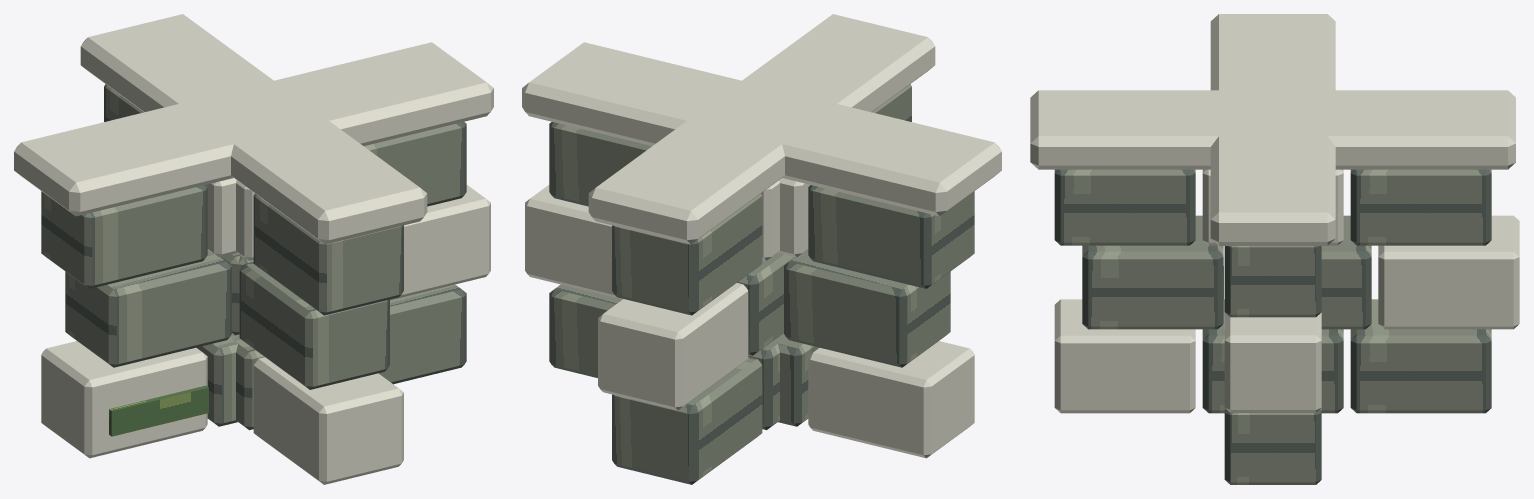
Rendered from wall_corner.glb.
3 views of the same model, side by side, from view 1: azimuth 30°, elevation 25°; view 2: azimuth 150°, elevation 25°; view 3: azimuth 270°, elevation 25° (orthographic).
Visible parts, largest first — view 1: Coping.002, Coping.003, Wall_stone.027, Wall_stone.021, Wall_stone.018, Wall_stone.024, Wall_stone.030, Wall_stone.033, Wall_stone.023, Wall_stone.020, Wall_stone.026, Moss.002 (+6 smaller); view 2: Coping.002, Coping.003, Wall_stone.018, Wall_stone.032, Wall_stone.021, Wall_stone.024, Wall_stone.029, Wall_stone.035, Wall_stone.023, Wall_stone.026, Wall_stone.020, Wall_stone.031 (+5 smaller); view 3: Coping.003, Coping.002, Wall_stone.027, Wall_stone.032, Wall_stone.029, Wall_stone.030, Wall_stone.033, Wall_stone.035, Wall_stone.023, Wall_stone.020, Wall_stone.026, Wall_stone.031 (+2 smaller).
Boxes of the visible parts, left/top/right/bottom form: Coping.002: left=14, top=42, right=493, bottom=216; Coping.003: left=80, top=14, right=427, bottom=244; Wall_stone.027: left=253, top=357, right=403, bottom=484; Wall_stone.021: left=65, top=249, right=231, bottom=367; Wall_stone.018: left=41, top=341, right=207, bottom=458; Wall_stone.024: left=41, top=185, right=207, bottom=288; Wall_stone.030: left=239, top=261, right=389, bottom=389; Wall_stone.033: left=253, top=193, right=403, bottom=315; Wall_stone.023: left=390, top=185, right=490, bottom=300; Wall_stone.020: left=379, top=284, right=466, bottom=384; Wall_stone.026: left=364, top=122, right=466, bottom=206; Moss.002: left=109, top=385, right=208, bottom=436; Coping.002: left=522, top=42, right=1001, bottom=216; Coping.003: left=588, top=14, right=935, bottom=244; Wall_stone.018: left=808, top=341, right=974, bottom=458; Wall_stone.032: left=598, top=283, right=748, bottom=410; Wall_stone.021: left=784, top=249, right=950, bottom=367; Wall_stone.024: left=808, top=185, right=974, bottom=288; Wall_stone.029: left=612, top=356, right=762, bottom=484; Wall_stone.035: left=612, top=193, right=762, bottom=315; Wall_stone.023: left=525, top=185, right=622, bottom=299; Wall_stone.026: left=549, top=122, right=651, bottom=206; Wall_stone.020: left=549, top=284, right=622, bottom=377; Wall_stone.031: left=737, top=253, right=794, bottom=355; Coping.003: left=1030, top=90, right=1515, bottom=169; Coping.002: left=1210, top=14, right=1335, bottom=245; Wall_stone.027: left=1054, top=299, right=1195, bottom=413; Wall_stone.032: left=1378, top=215, right=1519, bottom=329; Wall_stone.029: left=1350, top=299, right=1491, bottom=413; Wall_stone.030: left=1082, top=215, right=1223, bottom=329; Wall_stone.033: left=1054, top=169, right=1195, bottom=245; Wall_stone.035: left=1350, top=169, right=1491, bottom=245; Wall_stone.023: left=1224, top=312, right=1321, bottom=412; Wall_stone.020: left=1224, top=408, right=1321, bottom=484; Wall_stone.026: left=1224, top=246, right=1321, bottom=317; Wall_stone.031: left=1321, top=215, right=1371, bottom=329.
Size of the model in its own units: 2.11 by 1.34 by 2.11.
Materials: 3 (2 with a texture image).
